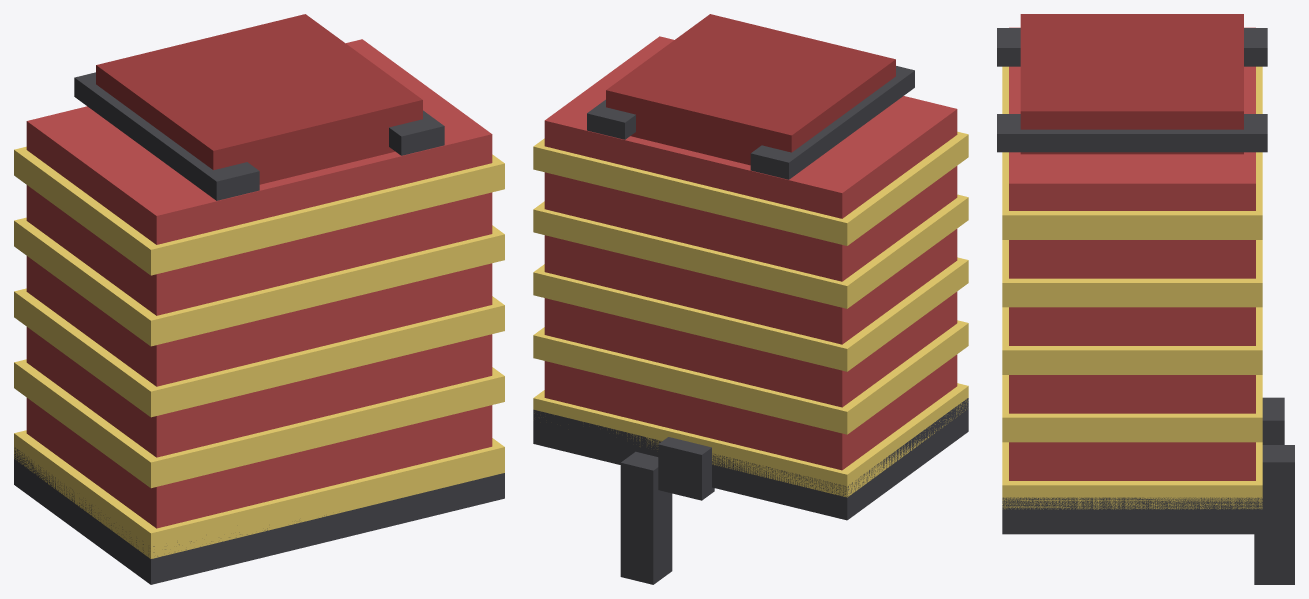
Rendered from samurai_tronco.glb.
The picture shows the model from 3 angles, left to right: view 1: azimuth 30°, elevation 25°; view 2: azimuth 150°, elevation 25°; view 3: azimuth 270°, elevation 25°; orthographic projection. The views are drawn at different scales.
Visible parts, largest first — view 1: samurai_tronco; view 2: samurai_tronco; view 3: samurai_tronco.
Part boxes in pixels (<box>): samurai_tronco: <box>14,14,504,584</box>; samurai_tronco: <box>533,14,968,584</box>; samurai_tronco: <box>997,14,1294,584</box>.
Size of the model in its own units: 0.575 by 0.805 by 0.44.
